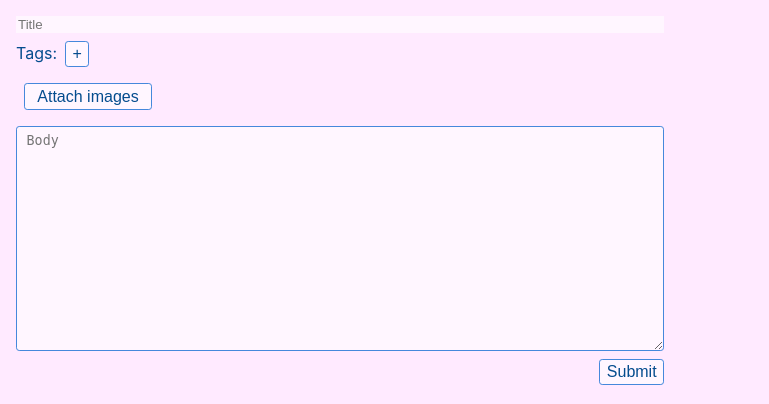
Test case: allows adding tags
Type "text" into the field with placeholder "Title". click: (340, 24)
box: [16,16,664,33]
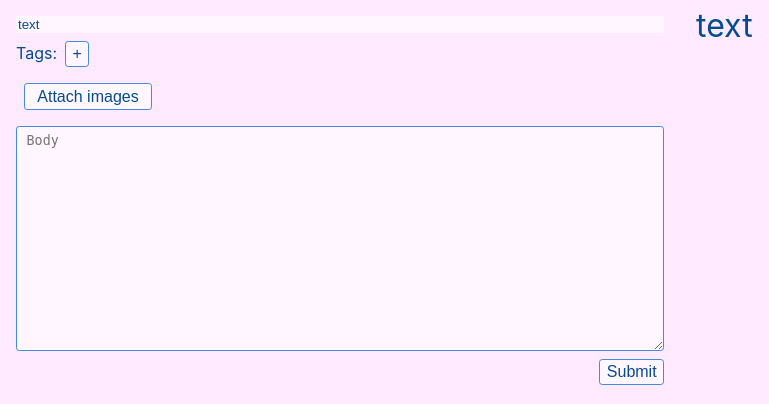
Click the button "+". click: (77, 54)
box: [65,41,89,67]
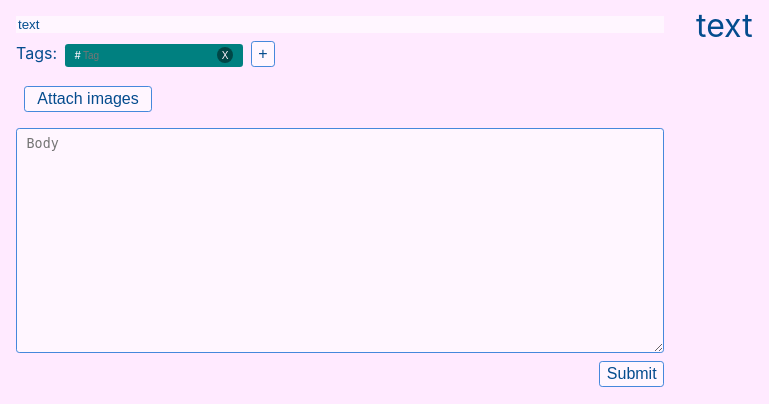
Check: the element showing "X" is shown, box [65,44,243,67]
